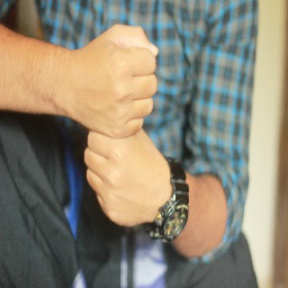G: (73, 18, 180, 232)
